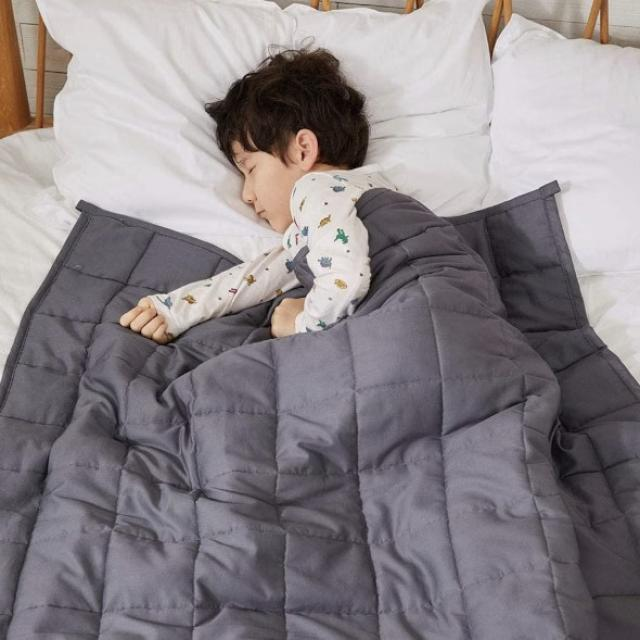sleeping-person: (118, 27, 595, 640)
